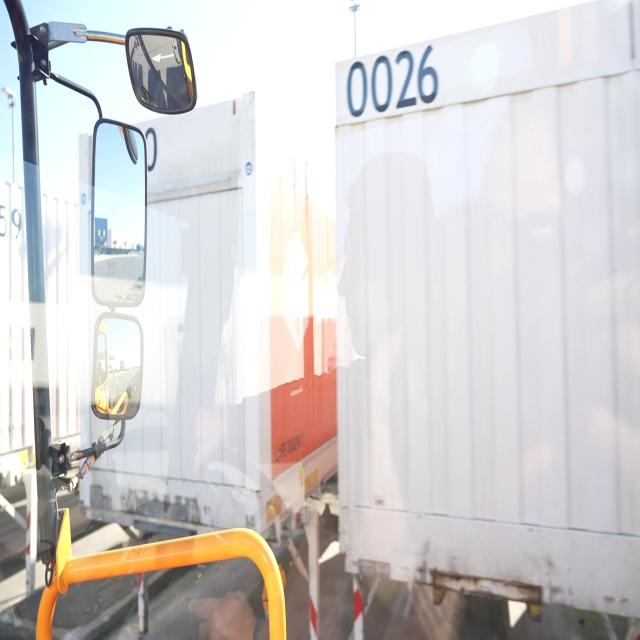Code: (341, 36, 445, 125)
